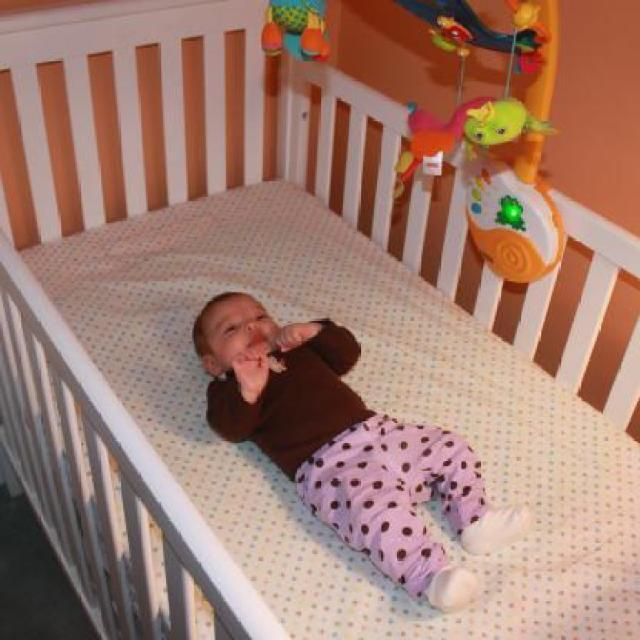baby: (192, 292, 534, 614)
